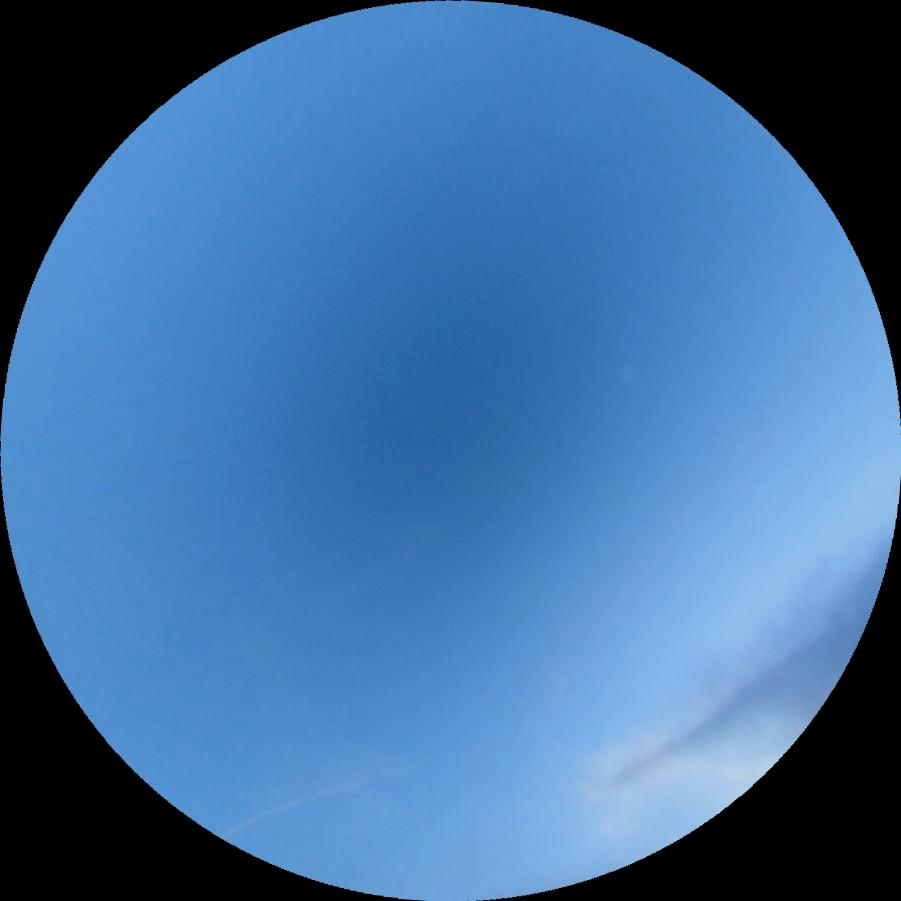unknow: (214, 761, 399, 843)
